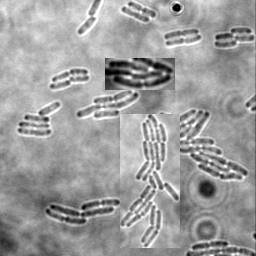Dividing: (52, 67, 89, 81), (128, 1, 157, 18), (166, 34, 202, 47), (164, 28, 200, 39), (192, 239, 229, 249)
Microcolony: (120, 114, 180, 248), (158, 109, 249, 180), (105, 58, 175, 90), (76, 88, 139, 119), (45, 199, 120, 224), (18, 101, 61, 136), (214, 27, 255, 48)
Rod: (121, 5, 150, 23), (78, 16, 99, 34), (50, 79, 72, 89), (69, 73, 90, 82)
